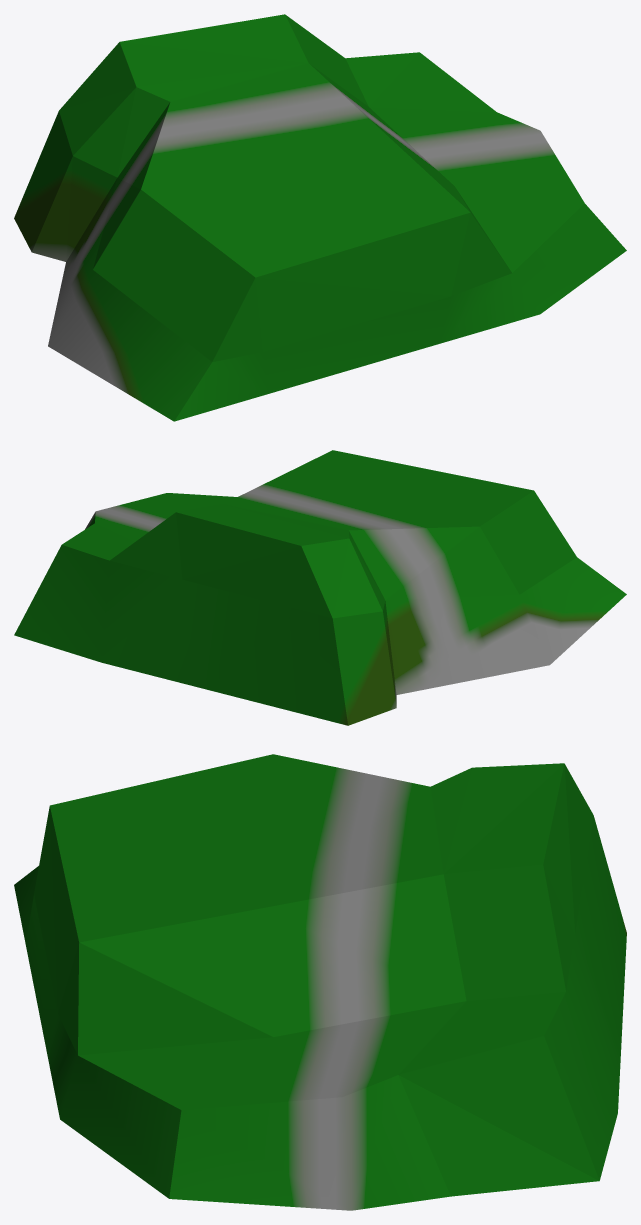
The model's file is difuchangjing_shitou16.FBX.
The picture shows the model from 3 angles, top to bottom: view 1: azimuth 30°, elevation 25°; view 2: azimuth 150°, elevation 25°; view 3: azimuth 270°, elevation 25°; orthographic projection. The views are drawn at different scales.
Visible parts, largest first — view 1: difuchangjing_shitou16; view 2: difuchangjing_shitou16; view 3: difuchangjing_shitou16.
Boxes of the visible parts, left/top/right/bottom form: difuchangjing_shitou16: left=14, top=14, right=626, bottom=421; difuchangjing_shitou16: left=14, top=450, right=626, bottom=725; difuchangjing_shitou16: left=14, top=754, right=626, bottom=1210.
Size of the model in its own units: 99.02 by 30.56 by 76.23.
